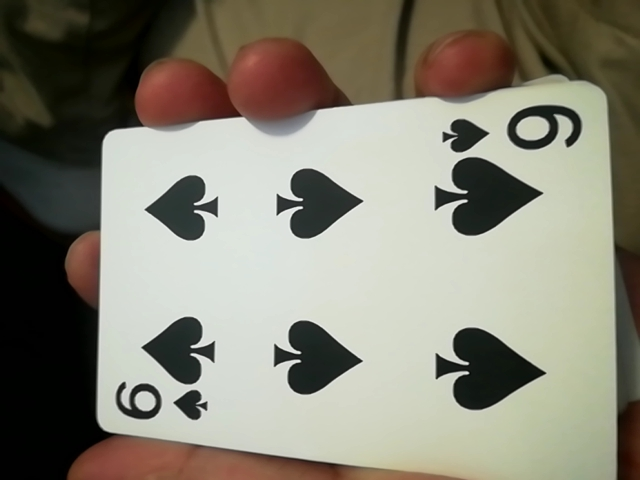ht 6: (73, 93, 620, 480)
